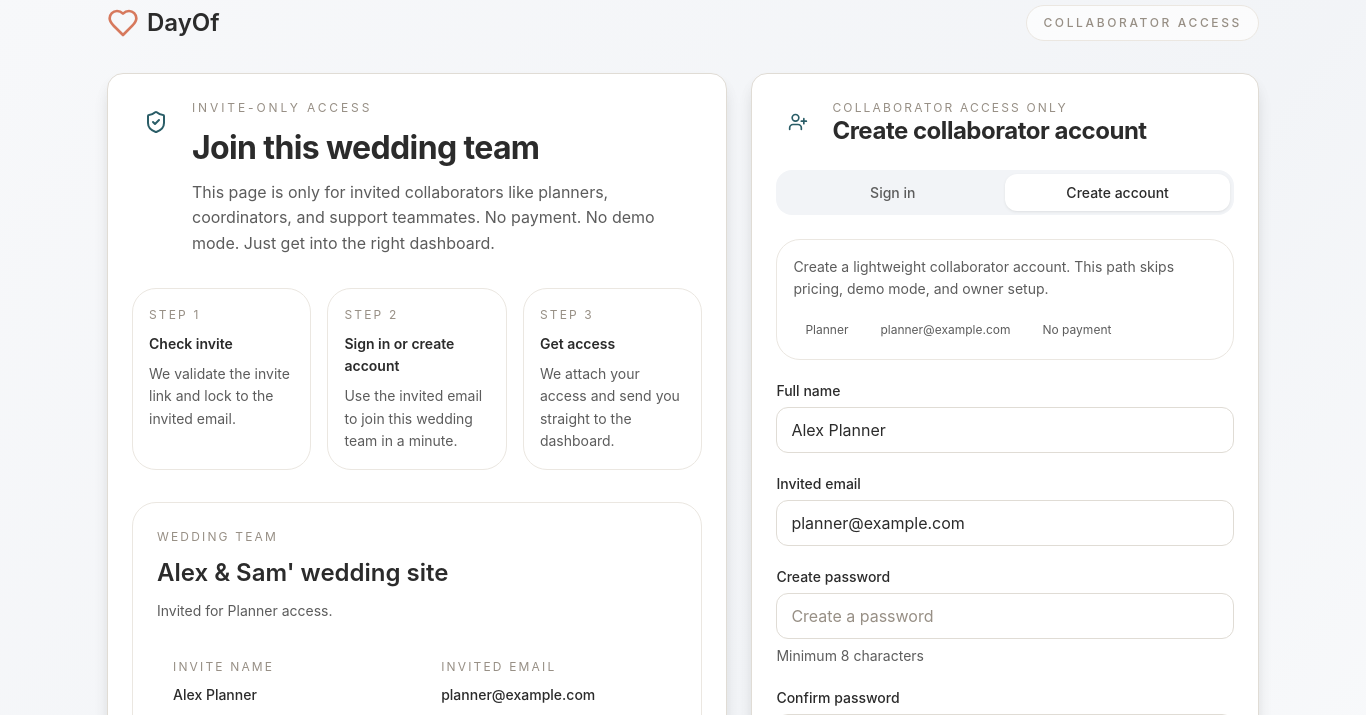
AcceptCollaboratorInvite guest-safe boundary › keeps noisy invite-claim RPC failures behind calm collaborator-safe copy
The width and height of the screenshot is (1366, 715).
Expected: the text "Invited for Planner access." is shown, 157,602 -> 332,619
Click the button "Sign in".
click(893, 192)  # box 780,174 -> 1005,211
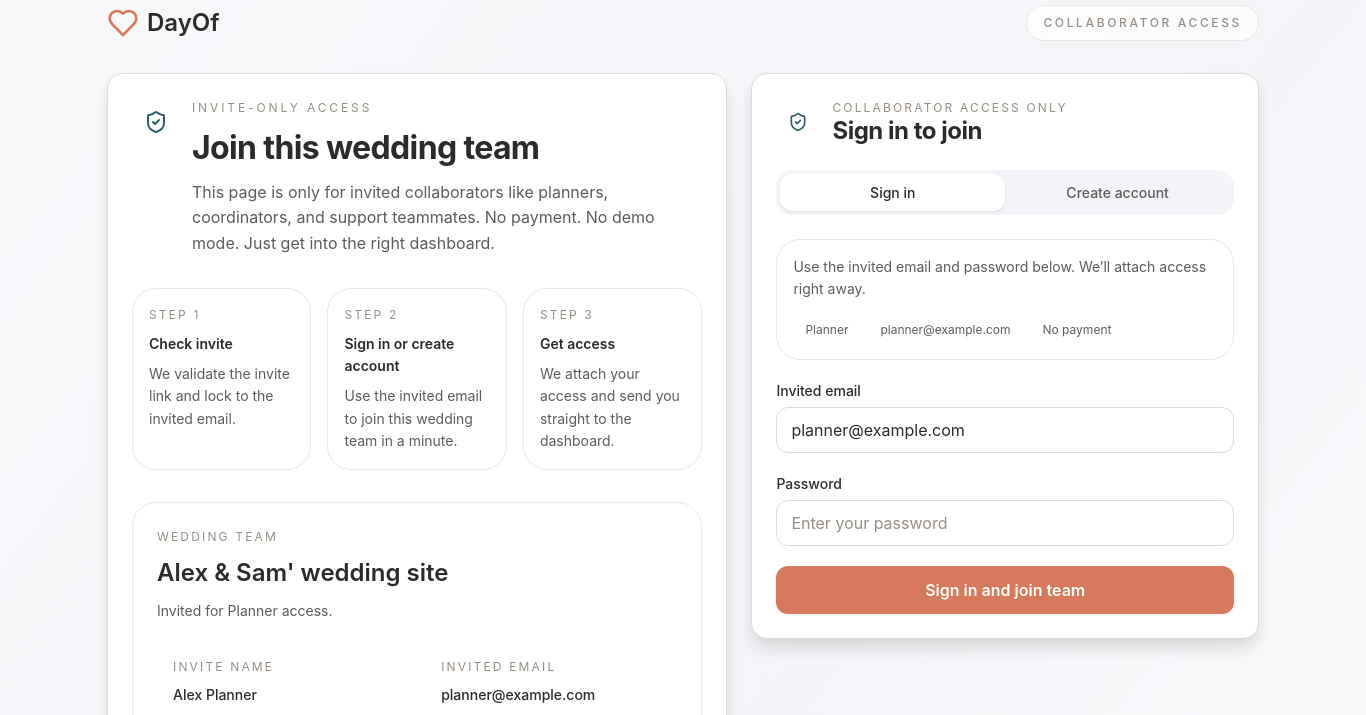
Type "password-123" into the password field with placeholder "Enter your password".
click(1005, 523); type("password-123")  # box 776,500 -> 1234,546
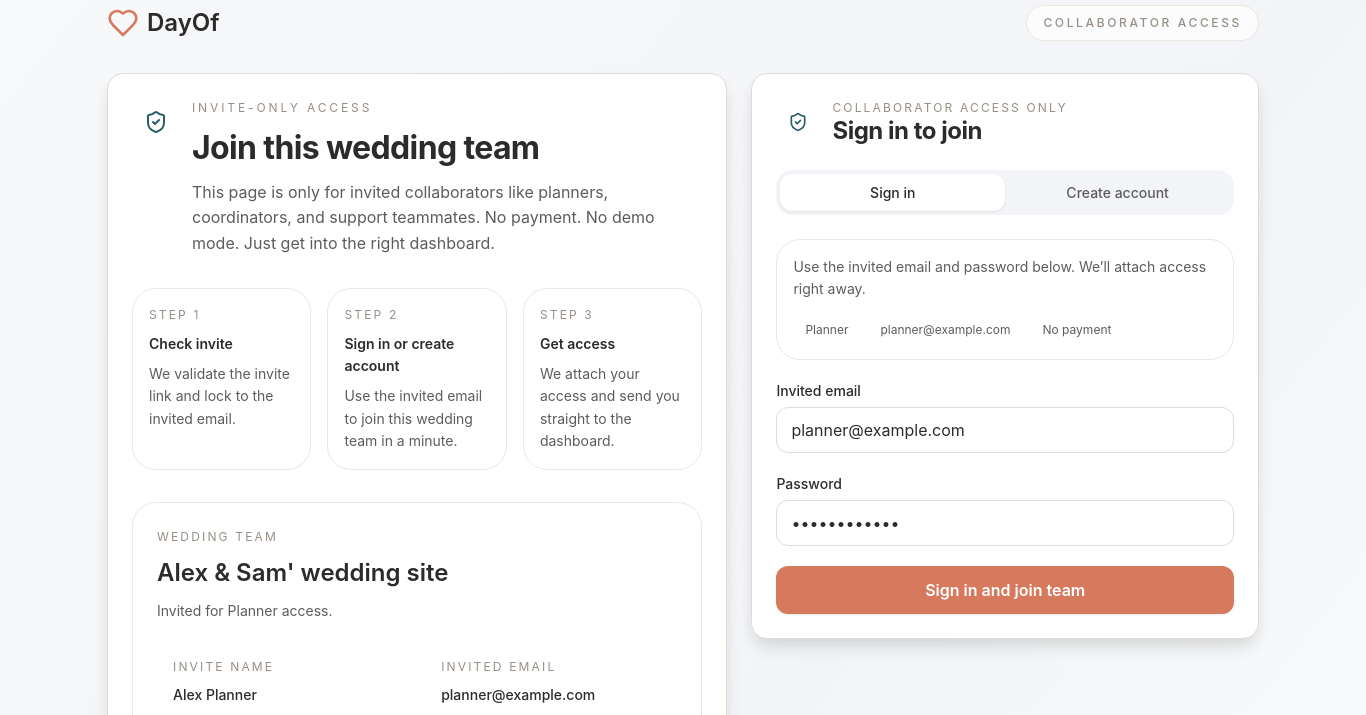
Click the button "Sign in and join team".
click(1005, 590)  # box 776,566 -> 1234,614
(page scrolled)
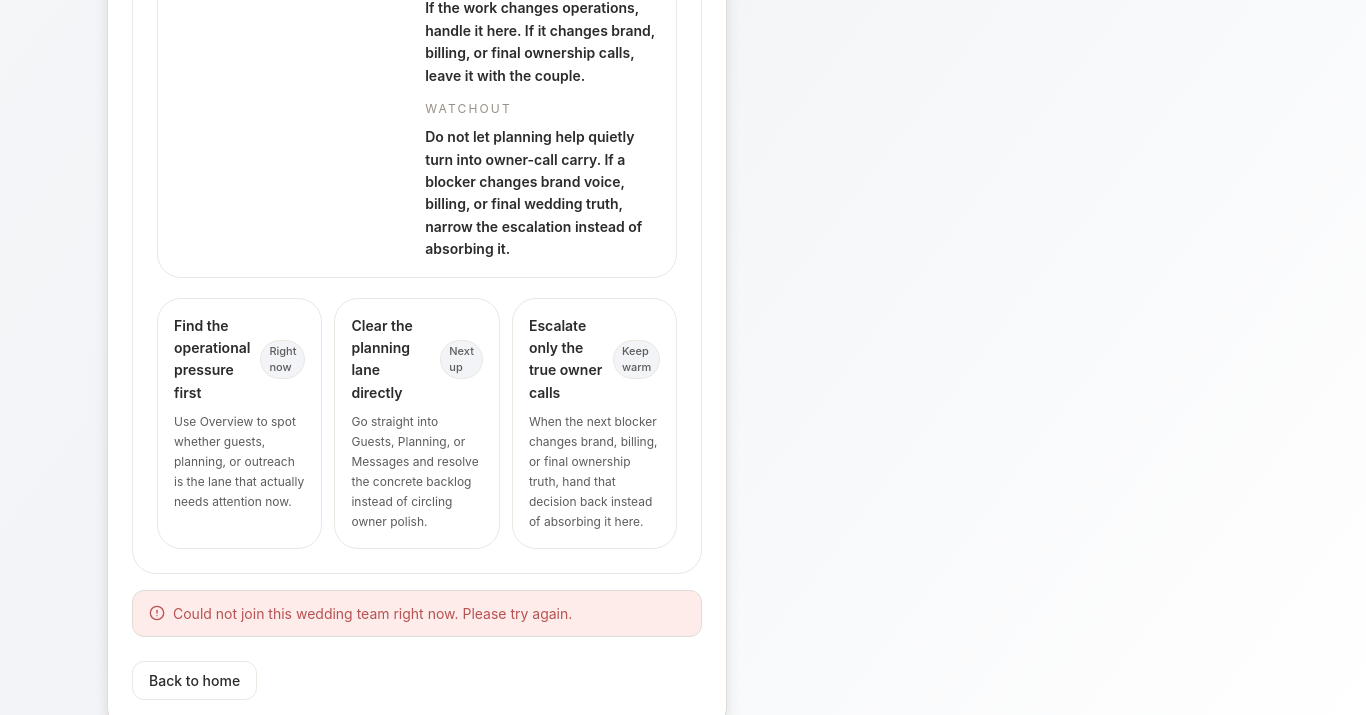
Expected: the text "Could not join this wedding team right now. Please try again." is shown, 173,603 -> 572,624
